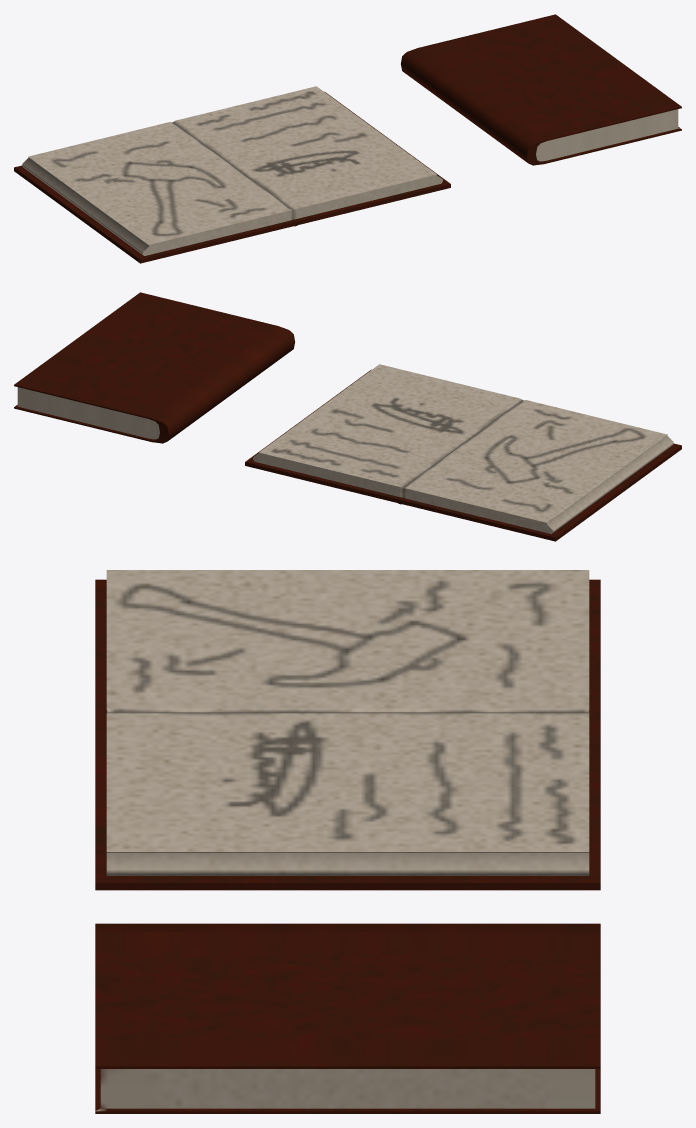
File: book.fbx
3 renders of one model, top to bottom at view 1: azimuth 30°, elevation 25°; view 2: azimuth 150°, elevation 25°; view 3: azimuth 270°, elevation 25°, orthographic. The views are drawn at different scales.
Parts seen in each view (by area): view 1: BookOpened, BookClosed; view 2: BookOpened, BookClosed; view 3: BookOpened, BookClosed.
Boxes of the visible parts, left/top/right/bottom form: BookOpened: left=14, top=86, right=450, bottom=263; BookClosed: left=401, top=14, right=681, bottom=165; BookOpened: left=245, top=364, right=681, bottom=541; BookClosed: left=14, top=292, right=294, bottom=443; BookOpened: left=95, top=570, right=600, bottom=890; BookClosed: left=95, top=923, right=600, bottom=1113.
Bounding box in the file's own units: 1.24 × 0.0552 × 0.5.
